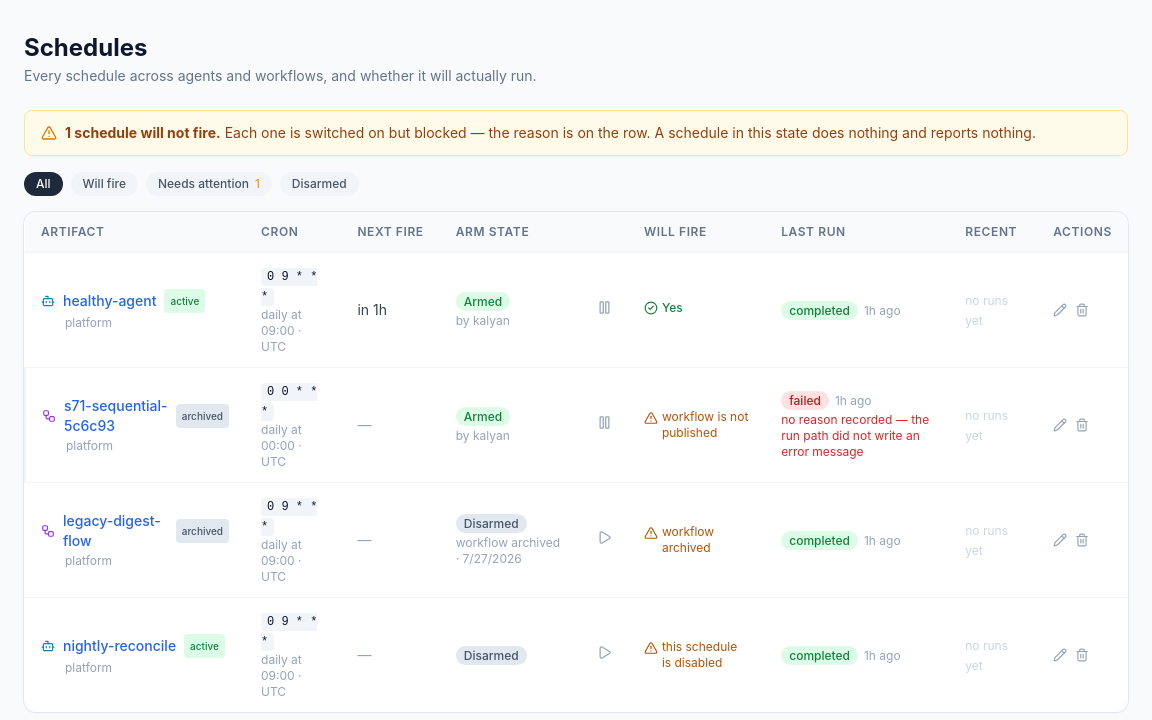
it: SchedulesPage › partitions rows across the four filters
Expected: the row with test id "schedules-row-t-1" is shown, x1=25 y1=252 x2=1128 y2=368
Step 1. Click the button with test id "schedules-filter-firing" → (104, 184), box x1=71 y1=172 x2=138 y2=196
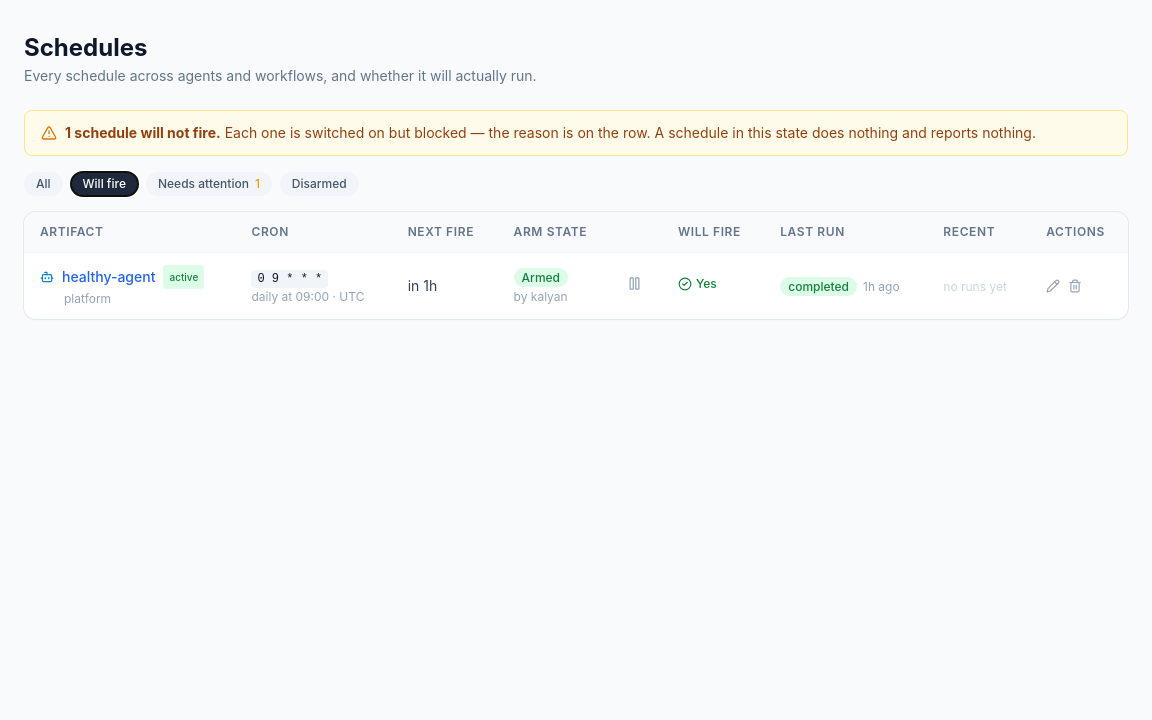
Expected: the row with test id "schedules-row-t-1" is shown, x1=24 y1=252 x2=1128 y2=319
Expected: the row with test id "schedules-row-zw-01" is gone
Step 2. Click the button with test id "schedules-filter-attention" → (209, 184), box x1=146 y1=172 x2=272 y2=196
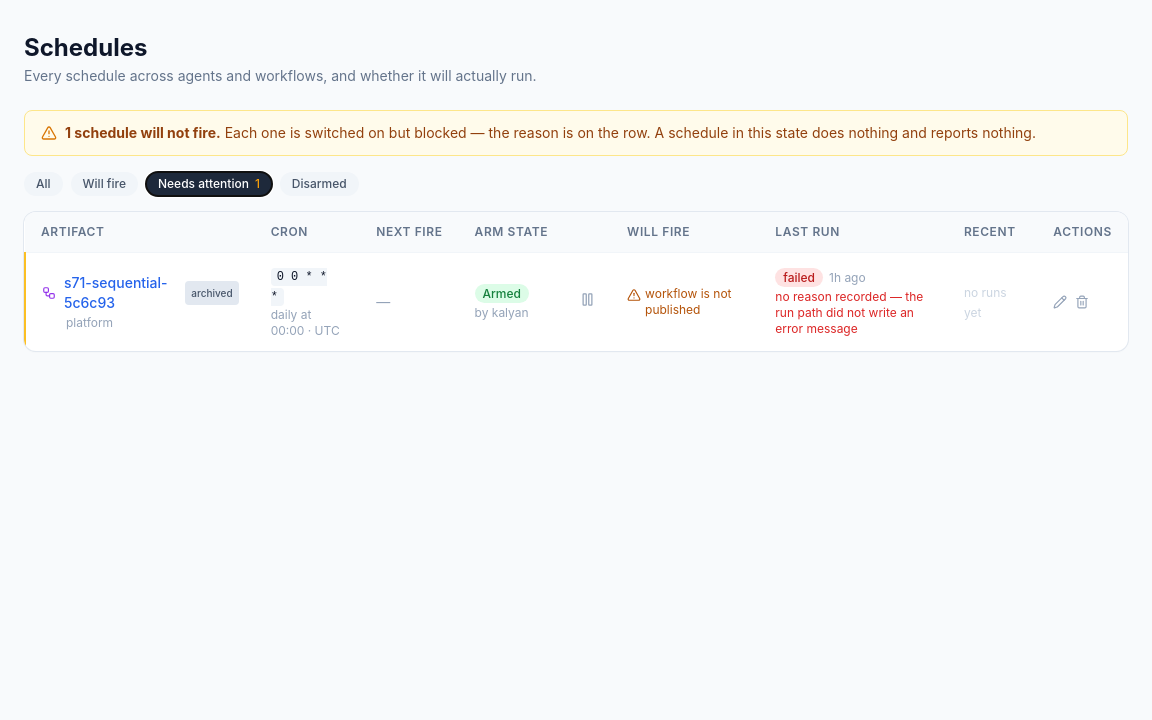
Expected: the row with test id "schedules-row-zw-01" is shown, x1=25 y1=252 x2=1128 y2=351
Expected: the row with test id "schedules-row-t-1" is gone
Step 3. Click the button with test id "schedules-filter-disarmed" → (319, 184), box x1=280 y1=172 x2=359 y2=196
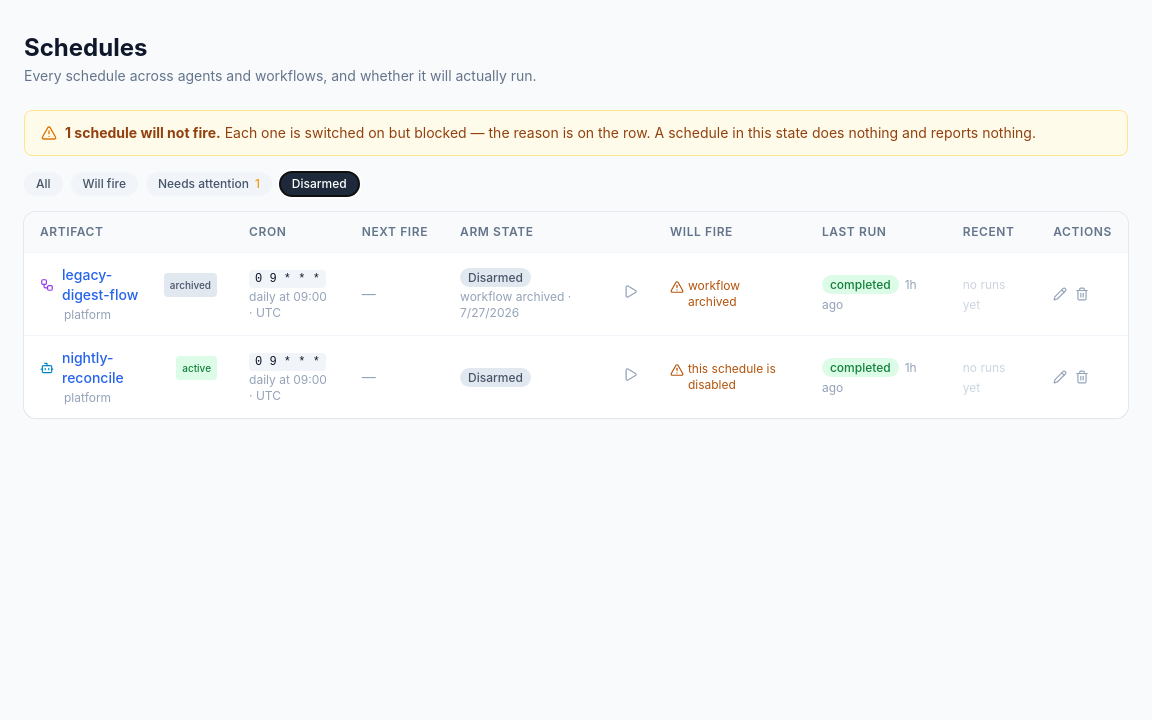
Expected: the row with test id "schedules-row-zw-10" is shown, x1=24 y1=252 x2=1128 y2=336
Expected: the row with test id "schedules-row-zw-01" is gone
